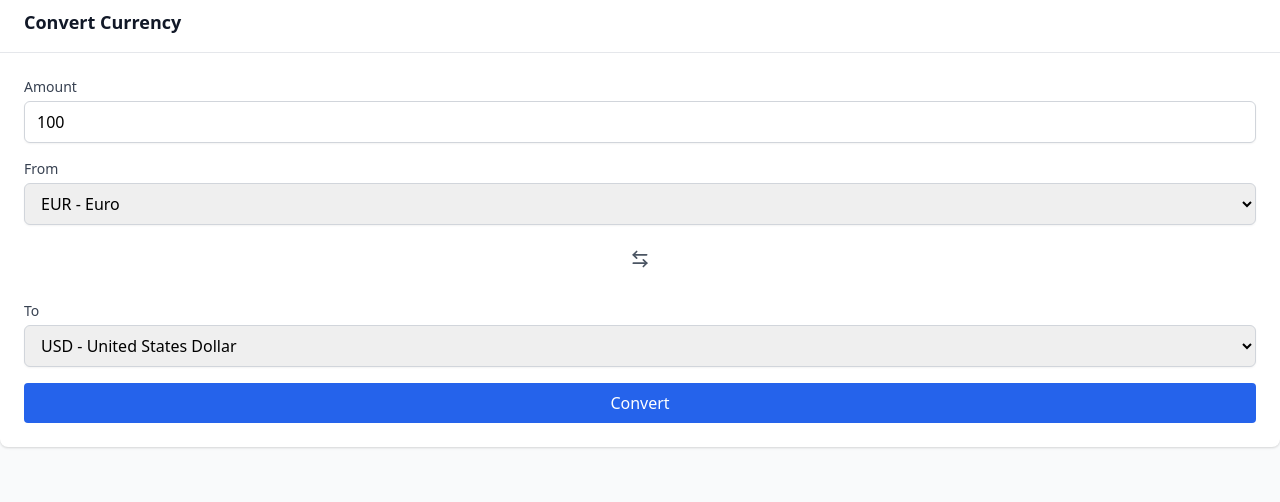
ConversionForm › validates currencies are different
Select "EUR - Euro" in the dropdown labelled "From": (640, 204) [24,183,1256,225]
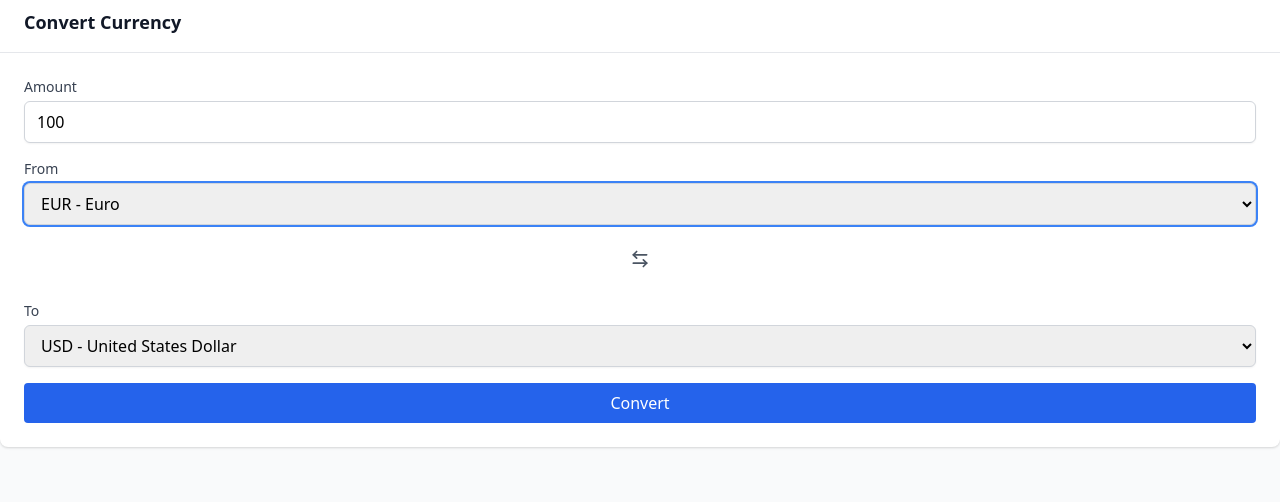
Select "EUR - Euro" in the dropdown labelled "To": (640, 346) [24,325,1256,367]
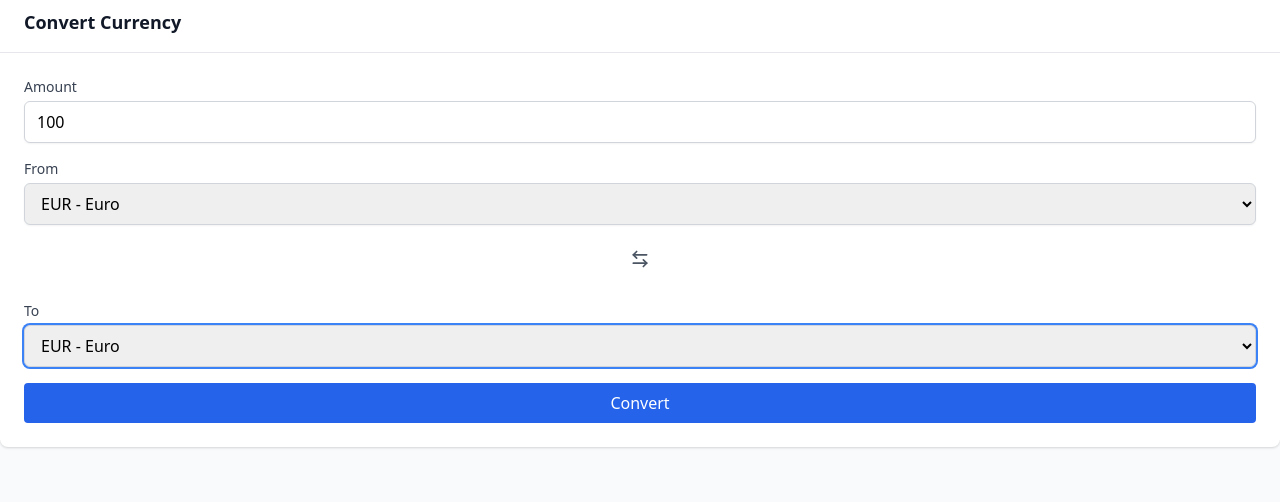
Click the button "Convert": (640, 403) [24,383,1256,423]
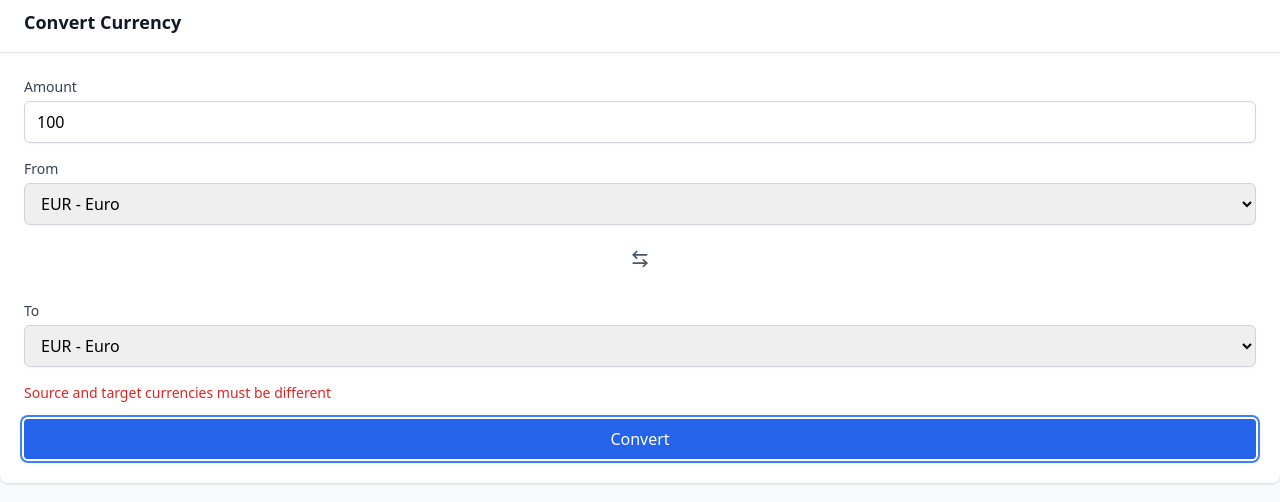
Check: the text "Source and target currencies must be different" is shown, box [24,383,331,402]
